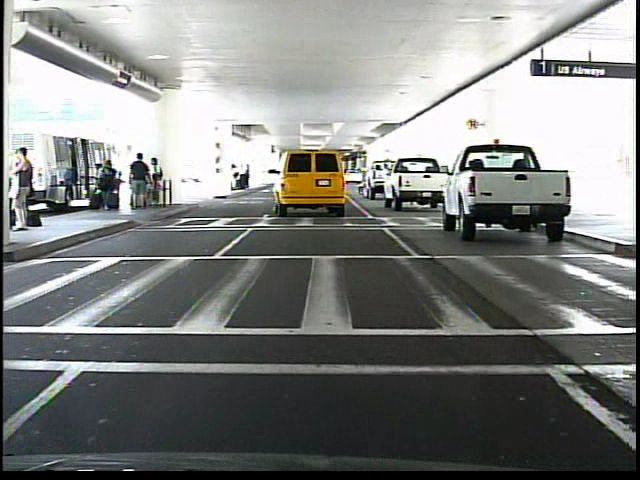person: (16, 145, 39, 231)
